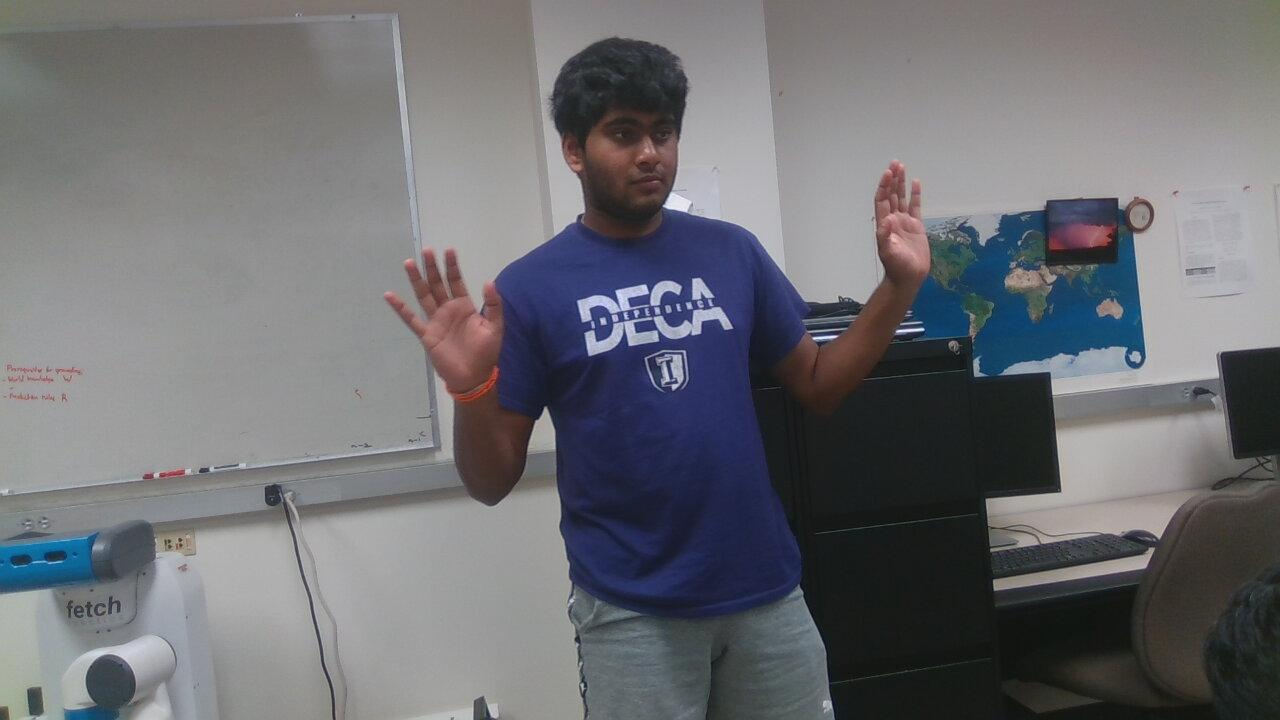hands: (378, 249, 512, 396), (866, 154, 944, 295)
